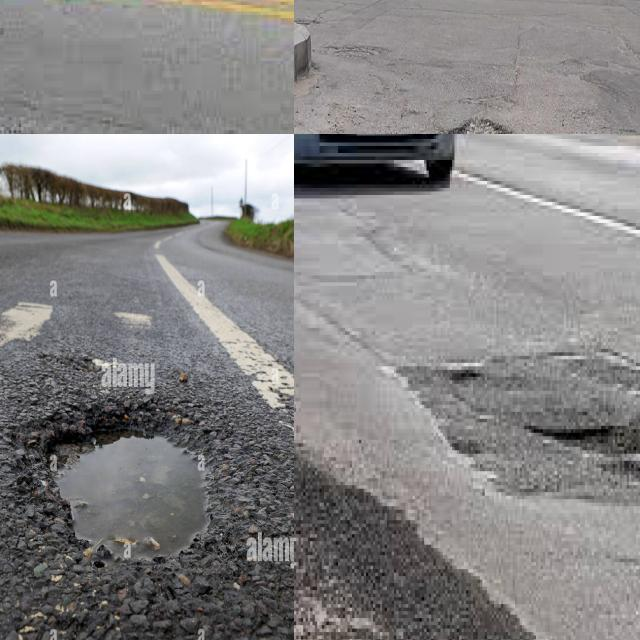Pothole: (53, 436, 208, 564), (524, 426, 640, 474), (445, 114, 514, 134)
